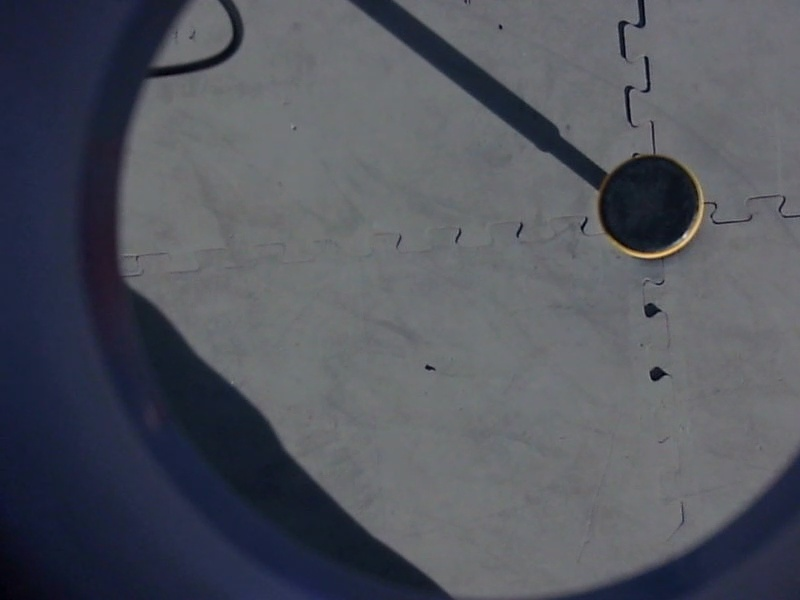tip: (592, 149, 712, 265)
